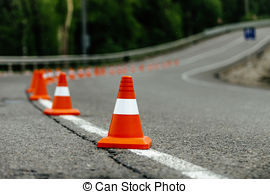cones: (99, 74, 153, 150), (46, 73, 80, 116)
